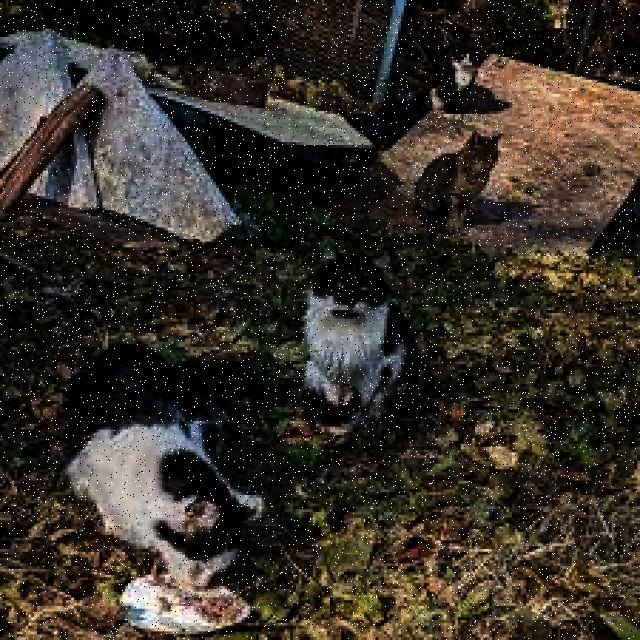cat: (70, 345, 264, 587), (302, 249, 420, 428), (416, 132, 499, 231), (436, 32, 490, 112)
